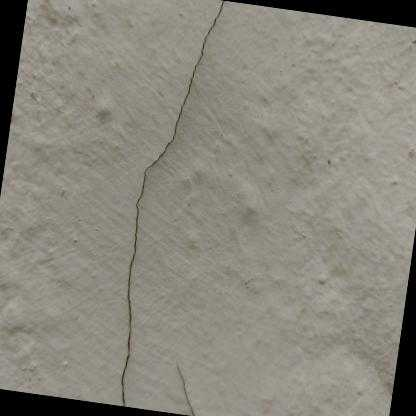crack: (121, 0, 225, 406), (177, 361, 195, 416)
